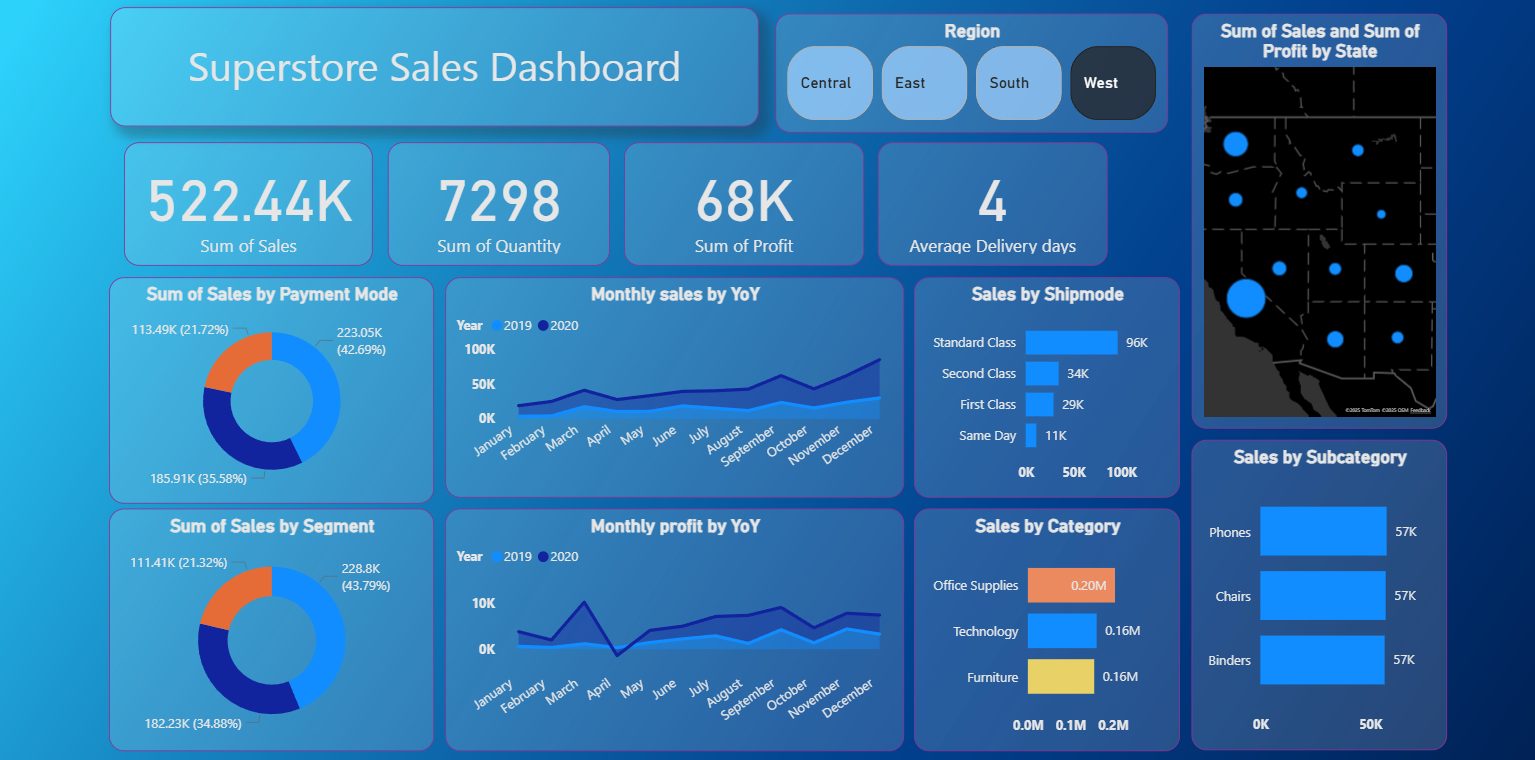

The dashboard page shown, as its layout file describes it:
{"tool":"powerbi","page":{"name":"Sales Dashboard","canvas":[1280,720],"ordinal":0},"visuals":[{"type":"clusteredBarChart","title":"Sales by Category","fields":{"Category":["Sheet1.Category"],"Y":["Sum(Sheet1.Sales)"]},"box":[769.8,477.5,248.4,226.4],"z":0},{"type":"clusteredBarChart","title":"Sales by Subcategory","fields":{"Category":["Sheet1.Sub-Category"],"Y":["Sum(Sheet1.Sales)"]},"box":[1027.8,414.4,238.8,289.5],"z":1000},{"type":"clusteredBarChart","title":"Sales by Shipmode","fields":{"Category":["Sheet1.Ship Mode"],"Y":["Sum(Sheet1.Sales)"]},"box":[769.8,262.1,248.4,205.8],"z":2000},{"type":"stackedAreaChart","title":"Monthly sales by YoY","fields":{"Category":["Sheet1.Order Date.Variation.Date Hierarchy.Month","Sheet1.Order Date.Variation.Date Hierarchy.Day"],"Y":["Sum(Sheet1.Sales)"],"Series":["Sheet1.Order Date.Variation.Date Hierarchy.Year"]},"box":[332.1,262.1,428.1,205.8],"z":3000},{"type":"stackedAreaChart","title":"Monthly profit by YoY","fields":{"Category":["Sheet1.Order Date.Variation.Date Hierarchy.Month","Sheet1.Order Date.Variation.Date Hierarchy.Day"],"Series":["Sheet1.Order Date.Variation.Date Hierarchy.Year"],"Y":["Sum(Sheet1.Profit)"]},"box":[332.1,477.5,428.1,226.4],"z":4000},{"type":"azureMap","fields":{"Category":["Sheet1.State"],"Size":["Sum(Sheet1.Sales)"]},"box":[1027.8,16.5,238.8,387],"z":5000},{"type":"donutChart","fields":{"Y":["Sum(Sheet1.Sales)"],"Category":["Sheet1.Payment Mode"]},"box":[19.2,262.1,303.3,211.3],"z":6000},{"type":"donutChart","fields":{"Category":["Sheet1.Segment"],"Y":["Sum(Sheet1.Sales)"]},"box":[19.2,477.5,303.3,226.4],"z":7000},{"type":"advancedSlicerVisual","fields":{"Values":["Sheet1.Region"]},"box":[639.5,16.5,366.4,111.1],"z":8000},{"type":"textbox","box":[20,11,605.1,111.1],"z":9000},{"type":"card","fields":{"Values":["Sum(Sheet1.Sales)"]},"box":[32.9,135.8,231.9,115.3],"z":9001},{"type":"card","fields":{"Values":["Sum(Sheet1.Quantity)"]},"box":[278.6,135.8,207.2,115.3],"z":9002},{"type":"card","fields":{"Values":["Sum(Sheet1.Profit)"]},"box":[499.5,135.8,223.7,115.3],"z":9003},{"type":"card","fields":{"Values":["Avg(Sheet1.Delivery Time)"]},"box":[735.5,135.8,214.1,115.3],"z":9004}]}

Visuals, with their boxes on the page's 1280x720 design canvas (x1, y1, x2, y2). These are canvas units, not pixel positions in the 1535x760 screenshot, which may show the page scaled, cropped or inside an application window:
"Sales by Category" clusteredBarChart: <bbox>770, 478, 1018, 704</bbox>
"Sales by Subcategory" clusteredBarChart: <bbox>1028, 414, 1267, 704</bbox>
"Sales by Shipmode" clusteredBarChart: <bbox>770, 262, 1018, 468</bbox>
"Monthly sales by YoY" stackedAreaChart: <bbox>332, 262, 760, 468</bbox>
"Monthly profit by YoY" stackedAreaChart: <bbox>332, 478, 760, 704</bbox>
azureMap - Sheet1.State x Sum(Sheet1.Sales): <bbox>1028, 16, 1267, 404</bbox>
donutChart - Sum(Sheet1.Sales) x Sheet1.Payment Mode: <bbox>19, 262, 322, 473</bbox>
donutChart - Sheet1.Segment x Sum(Sheet1.Sales): <bbox>19, 478, 322, 704</bbox>
advancedSlicerVisual - Sheet1.Region: <bbox>640, 16, 1006, 128</bbox>
textbox: <bbox>20, 11, 625, 122</bbox>
card - Sum(Sheet1.Sales): <bbox>33, 136, 265, 251</bbox>
card - Sum(Sheet1.Quantity): <bbox>279, 136, 486, 251</bbox>
card - Sum(Sheet1.Profit): <bbox>500, 136, 723, 251</bbox>
card - Avg(Sheet1.Delivery Time): <bbox>736, 136, 950, 251</bbox>
